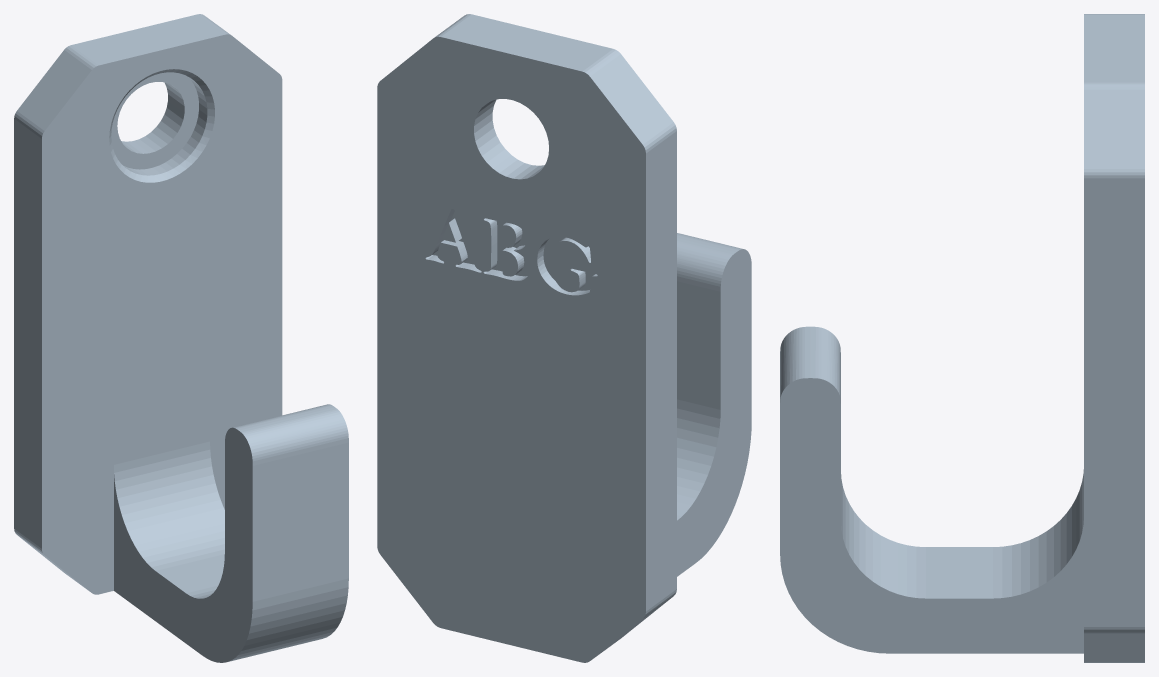
File: purse-holder-f10ed95e.glb
The picture shows the model from 3 angles, left to right: view 1: azimuth 30°, elevation 25°; view 2: azimuth 150°, elevation 25°; view 3: azimuth 270°, elevation 25°; orthographic projection. The views are drawn at different scales.
Visible parts, largest first — view 1: Short Top; view 2: Short Top; view 3: Short Top.
Boxes of the visible parts, left/top/right/bottom form: Short Top: left=14, top=14, right=348, bottom=662; Short Top: left=377, top=14, right=751, bottom=662; Short Top: left=780, top=14, right=1144, bottom=662.
Bounding box in the file's own units: 1.19 × 2.5 × 1.43.
